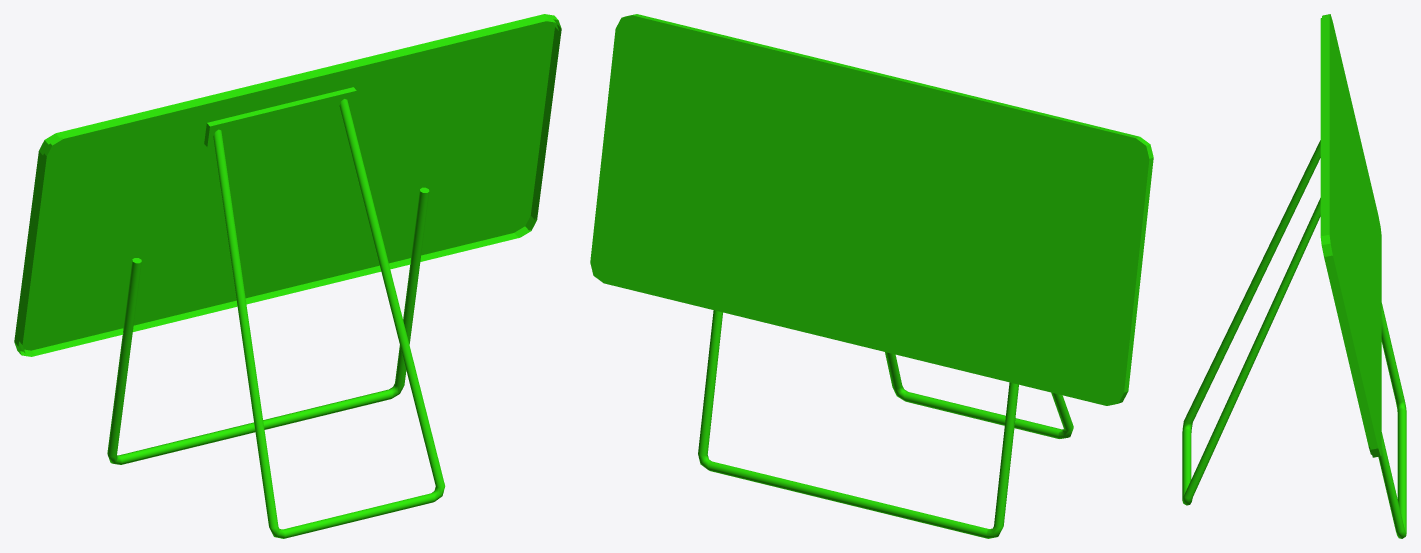
File: Road_Sign_Base_07_Lod0.fbx
The picture shows the model from 3 angles, left to right: view 1: azimuth 30°, elevation 25°; view 2: azimuth 150°, elevation 25°; view 3: azimuth 270°, elevation 25°; orthographic projection. The views are drawn at different scales.
Parts seen in each view (by area): view 1: Road_Sign_Base_07_Lod0; view 2: Road_Sign_Base_07_Lod0; view 3: Road_Sign_Base_07_Lod0.
Boxes of the visible parts, x1,y1,x2,y2 form: Road_Sign_Base_07_Lod0: [14, 14, 561, 538]; Road_Sign_Base_07_Lod0: [590, 14, 1153, 538]; Road_Sign_Base_07_Lod0: [1182, 14, 1406, 538].
Size of the model in its own units: 97.81 by 69.45 by 39.71.
